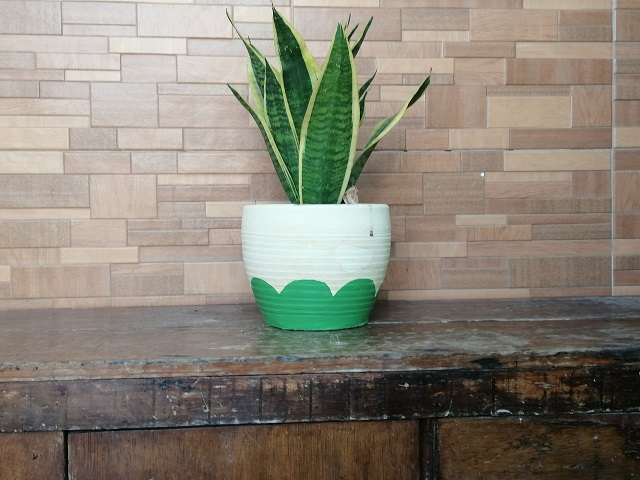plant: (221, 1, 417, 329)
wall: (4, 2, 220, 304), (435, 7, 640, 296)
